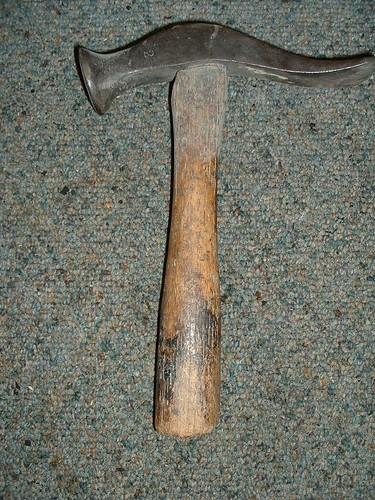hammer: (70, 16, 375, 439)
